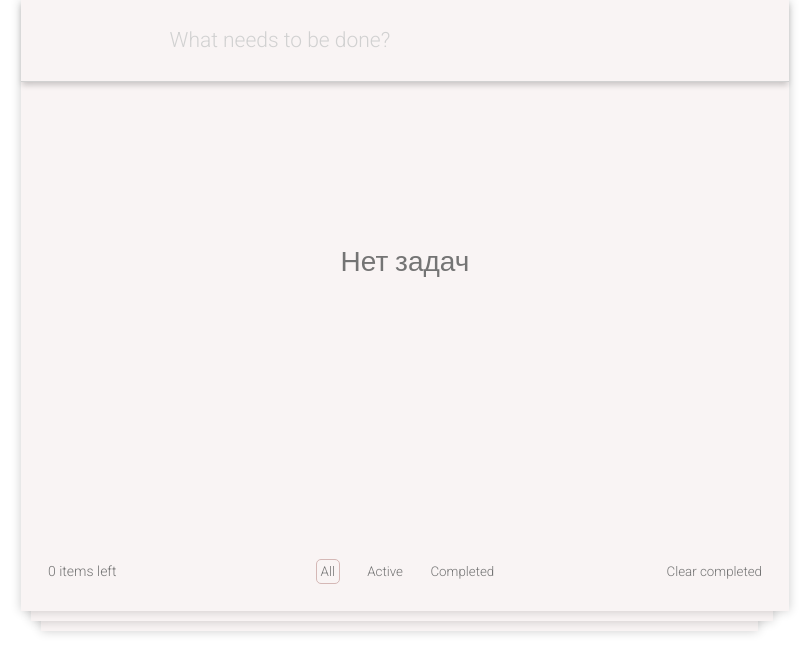
Test: TodoMain Component › adds a new task when Enter is pressed
Click the element with test id "todo-main-header": [405, 41] box [21, 0, 789, 82]
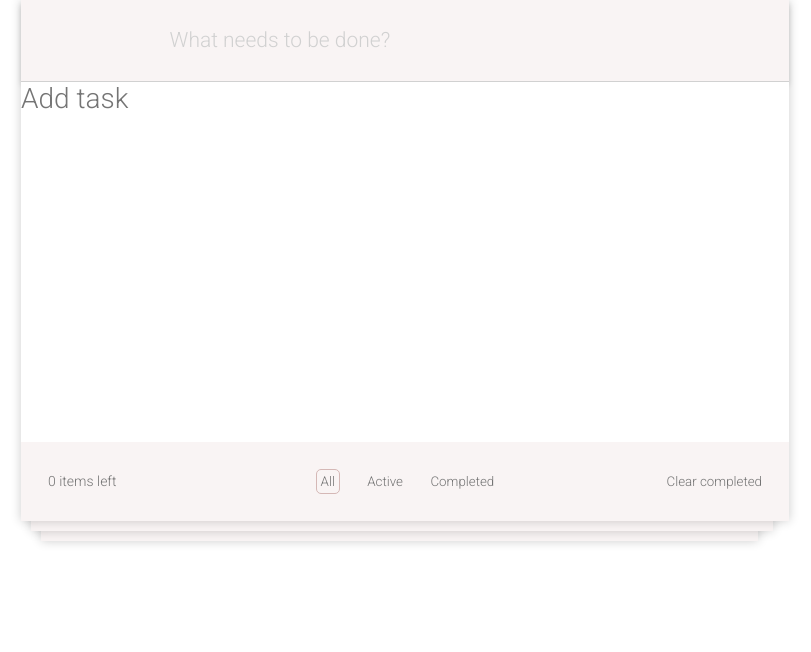
In the text box with test id "task-input": [405, 262] box [21, 82, 789, 442], type "New Task"
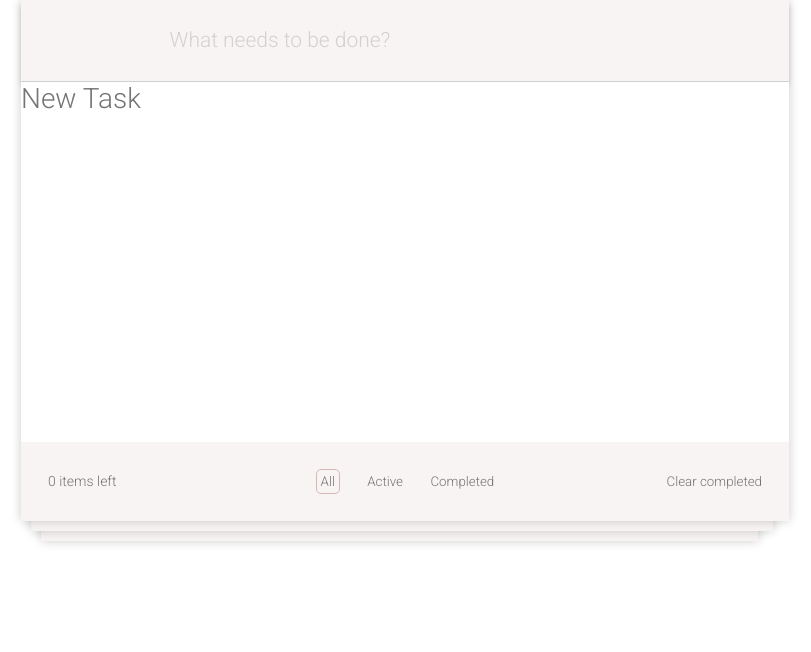
Press Enter in the text box with test id "task-input", box [21, 82, 789, 442]
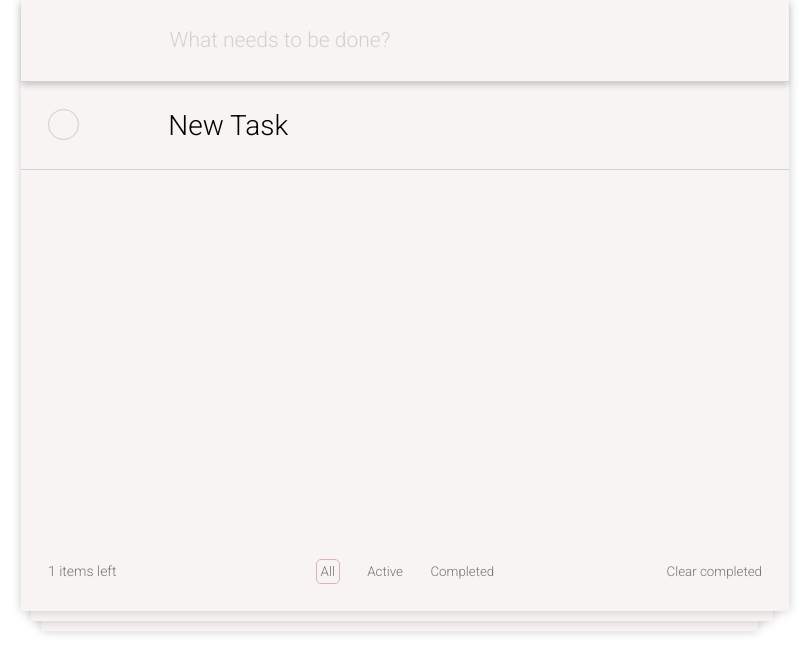
Expected: the text "New Task" is shown, [168, 109, 288, 142]
